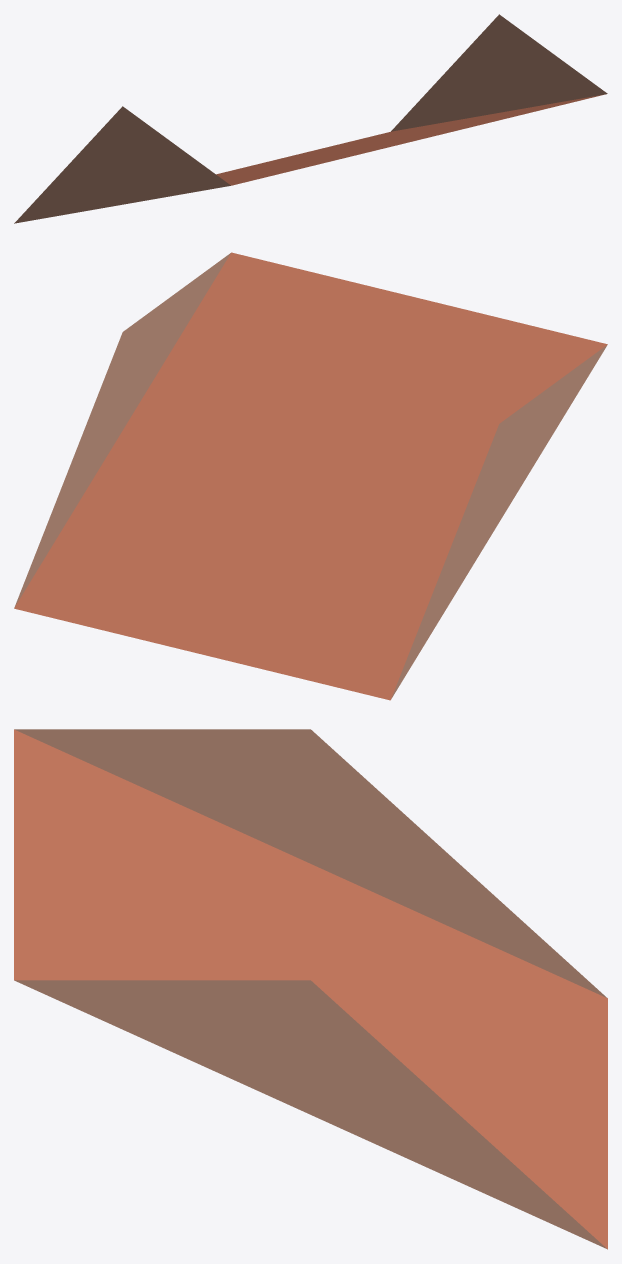
File: terrain_ramp.glb
3 renders of one model, top to bottom at view 1: azimuth 30°, elevation 25°; view 2: azimuth 150°, elevation 25°; view 3: azimuth 270°, elevation 25°, orthographic. The views are drawn at different scales.
Parts seen in each view (by area): view 1: terrain_ramp; view 2: terrain_ramp; view 3: terrain_ramp.
Boxes of the visible parts, x1=… form: terrain_ramp: x1=14, y1=14, x2=607, y2=223; terrain_ramp: x1=14, y1=252, x2=607, y2=700; terrain_ramp: x1=14, y1=729, x2=607, y2=1249.
Size of the model in its own units: 1.3 by 0.65 by 1.3.
